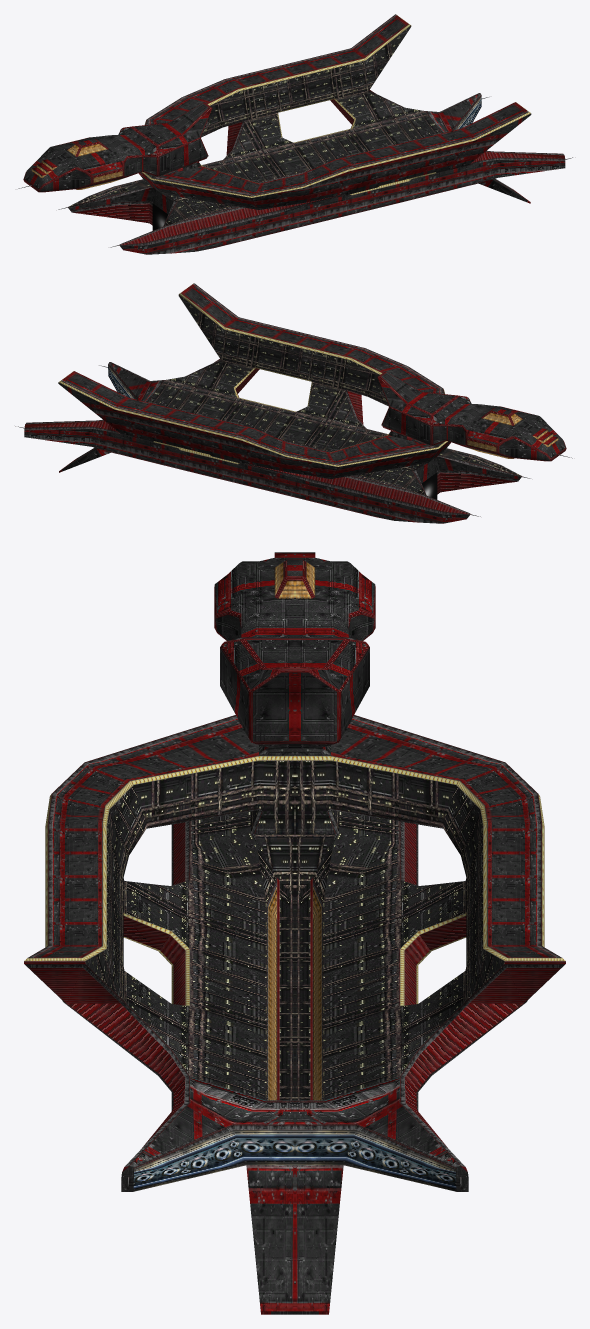
Rendered from rvc01.obj.
The picture shows the model from 3 angles, top to bottom: view 1: azimuth 30°, elevation 25°; view 2: azimuth 150°, elevation 25°; view 3: azimuth 270°, elevation 25°; orthographic projection. The views are drawn at different scales.
Visible parts, largest first — view 1: BELLY0, BODY0, SIDE_RIGHT0, HEAD0, SIDE_LEFT0; view 2: BELLY0, BODY0, SIDE_LEFT0, HEAD0, SIDE_RIGHT0; view 3: BELLY0, BODY0, HEAD0, SIDE_LEFT0, SIDE_RIGHT0.
Boxes of the visible parts, bbox=[...] form: BELLY0: bbox=[69, 26, 441, 234]; BODY0: bbox=[68, 93, 565, 254]; SIDE_RIGHT0: bbox=[143, 102, 531, 212]; HEAD0: bbox=[23, 102, 212, 192]; SIDE_LEFT0: bbox=[138, 14, 423, 187]; BELLY0: bbox=[148, 295, 520, 508]; BODY0: bbox=[24, 362, 521, 523]; SIDE_LEFT0: bbox=[58, 371, 446, 481]; HEAD0: bbox=[377, 371, 566, 461]; SIDE_RIGHT0: bbox=[166, 283, 450, 456]; BELLY0: bbox=[85, 761, 504, 1100]; BODY0: bbox=[121, 821, 468, 1314]; HEAD0: bbox=[214, 552, 375, 760]; SIDE_LEFT0: bbox=[327, 715, 565, 1092]; SIDE_RIGHT0: bbox=[24, 715, 262, 1092].
Size of the model in its own units: 4509 by 1402 by 2034.
Materials: 23 (23 with a texture image).
